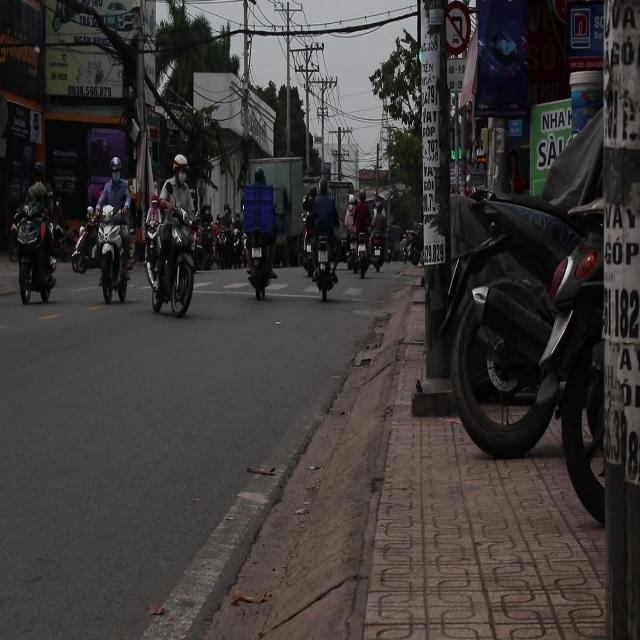motorbike: (146, 201, 198, 317), (13, 212, 63, 304), (300, 218, 340, 318), (93, 208, 135, 303), (244, 209, 276, 331), (69, 212, 102, 274), (348, 217, 374, 279)
